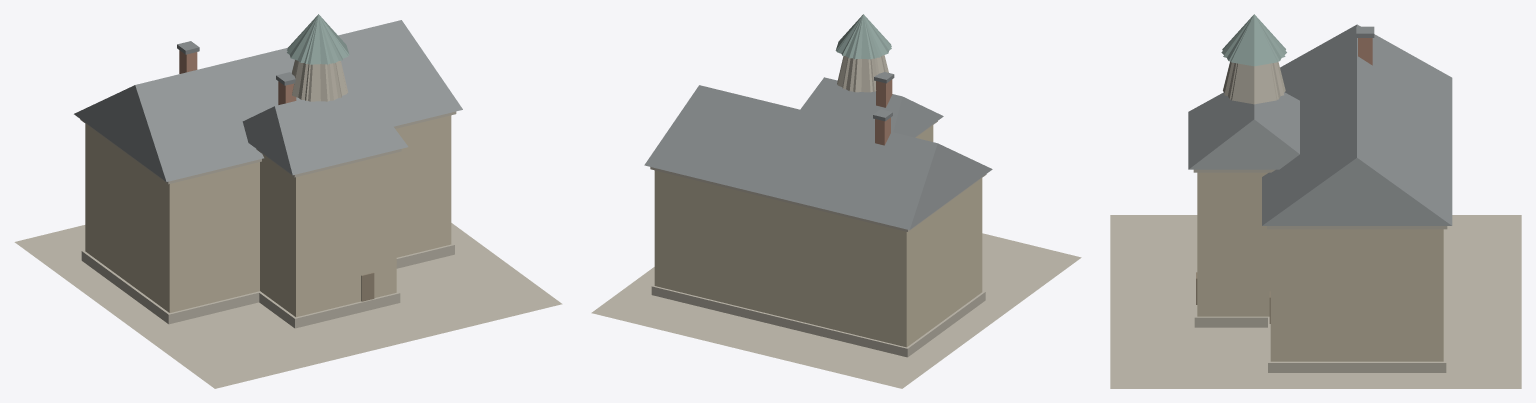
3 views of the same model, side by side, from view 1: azimuth 30°, elevation 25°; view 2: azimuth 150°, elevation 25°; view 3: azimuth 270°, elevation 25° (orthographic). The views are drawn at different scales.
Parts seen in each view (by area): view 1: Near, Mid, Far; view 2: Near, Mid, Far; view 3: Near, Mid, Far.
Part boxes in pixels (bbox=[...]): Near: bbox=[14, 14, 562, 388]; Mid: bbox=[287, 15, 348, 101]; Far: bbox=[287, 14, 342, 100]; Near: bbox=[591, 14, 1081, 388]; Mid: bbox=[836, 14, 891, 92]; Far: bbox=[841, 15, 891, 91]; Near: bbox=[1110, 14, 1521, 388]; Mid: bbox=[1222, 15, 1285, 99]; Far: bbox=[1223, 16, 1285, 95].
Size of the model in its own units: 3 by 2.32 by 3.
